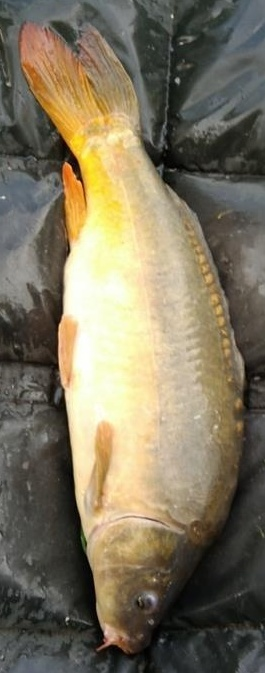Cyprinus carpio: (20, 20, 245, 653)
